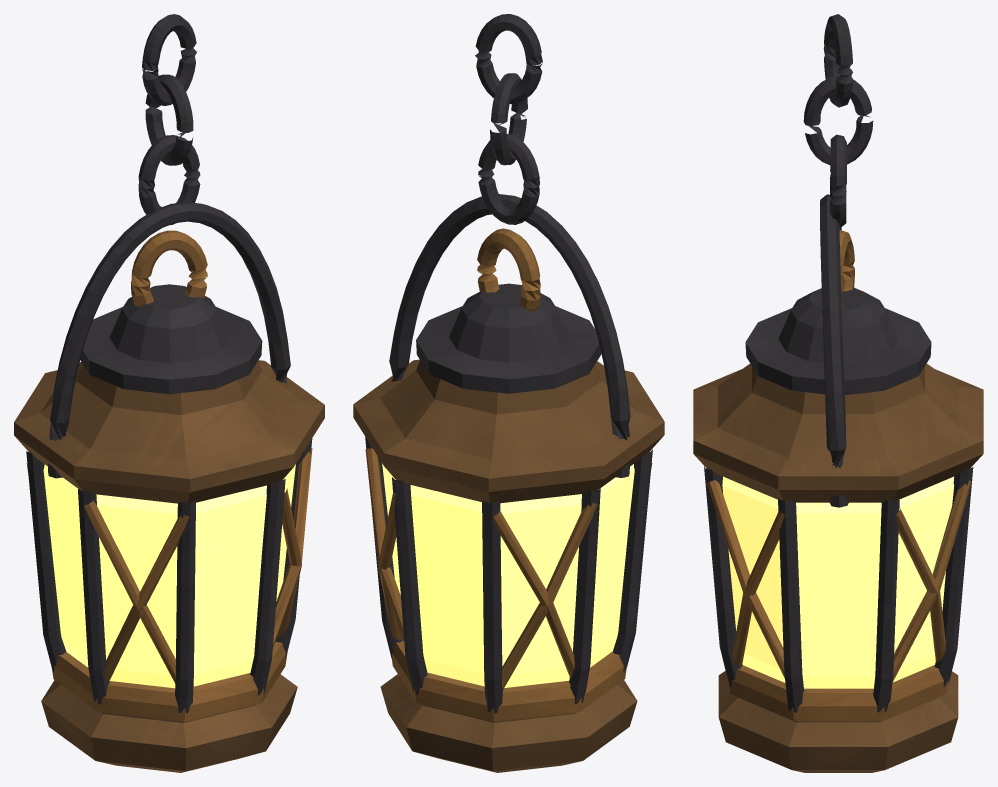
The model's file is ship_lantern.gltf.
The picture shows the model from 3 angles, left to right: view 1: azimuth 30°, elevation 25°; view 2: azimuth 150°, elevation 25°; view 3: azimuth 270°, elevation 25°; orthographic projection.
Parts seen in each view (by area): view 1: ship_lantern; view 2: ship_lantern; view 3: ship_lantern.
Part boxes in pixels (x1,y1,x2,y2): ship_lantern: [14, 14, 324, 772]; ship_lantern: [353, 14, 664, 772]; ship_lantern: [693, 14, 983, 772].
Bounding box in the file's own units: 0.3714 × 1.02 × 0.3714.
4 materials, 3 textured.
